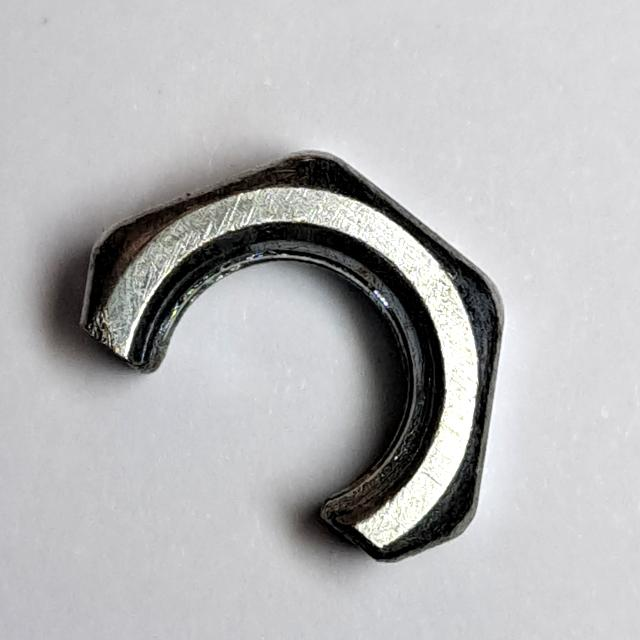Fracture: (68, 132, 517, 593)
